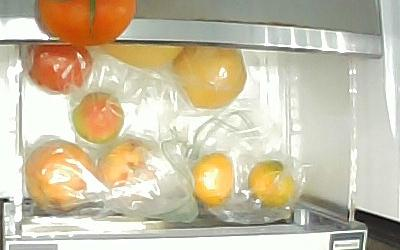peach_vinyl: (23, 138, 95, 211), (98, 137, 156, 189)
pear_vinyl: (171, 45, 247, 109), (98, 43, 185, 68)
tangerine_vinyl: (246, 158, 297, 208), (190, 151, 235, 205)
tomato_vinyl: (23, 43, 93, 93), (70, 90, 124, 143)
